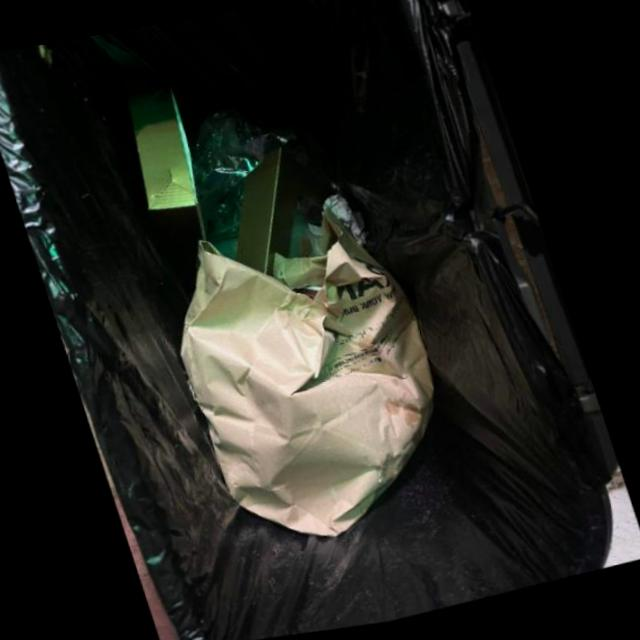carton: (133, 80, 201, 216), (239, 150, 299, 279)
giay: (184, 202, 437, 541)
